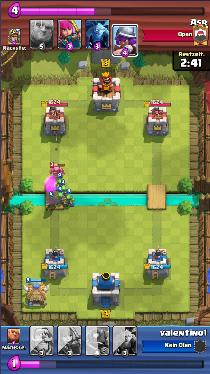ally_goblin_hut: (23, 282, 49, 307)
ally_musketeer: (47, 193, 57, 211)
ally_spear_goblin: (65, 196, 75, 207), (54, 180, 65, 189), (56, 194, 65, 203)
enemy_mini_pekka: (49, 166, 65, 176)
